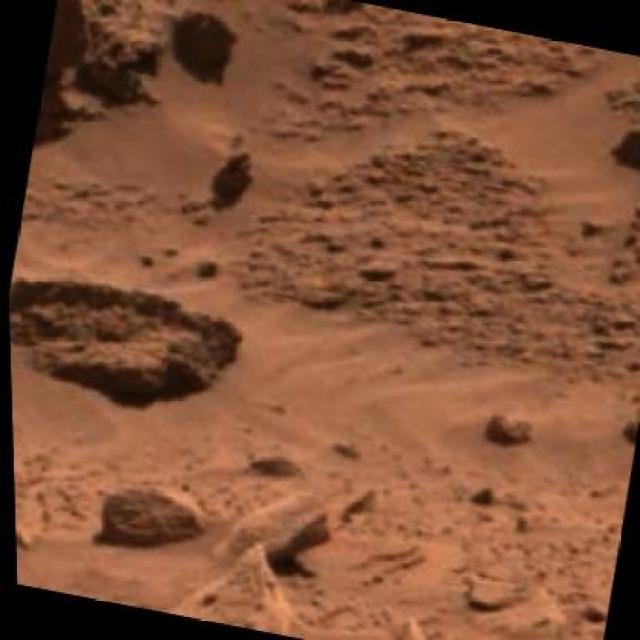rock: (6, 266, 246, 417), (32, 0, 118, 132), (89, 476, 213, 558)
